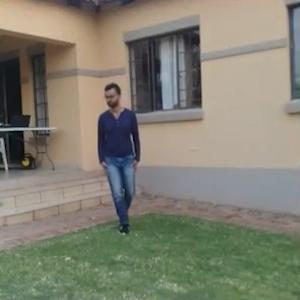follow: (95, 77, 141, 237)
